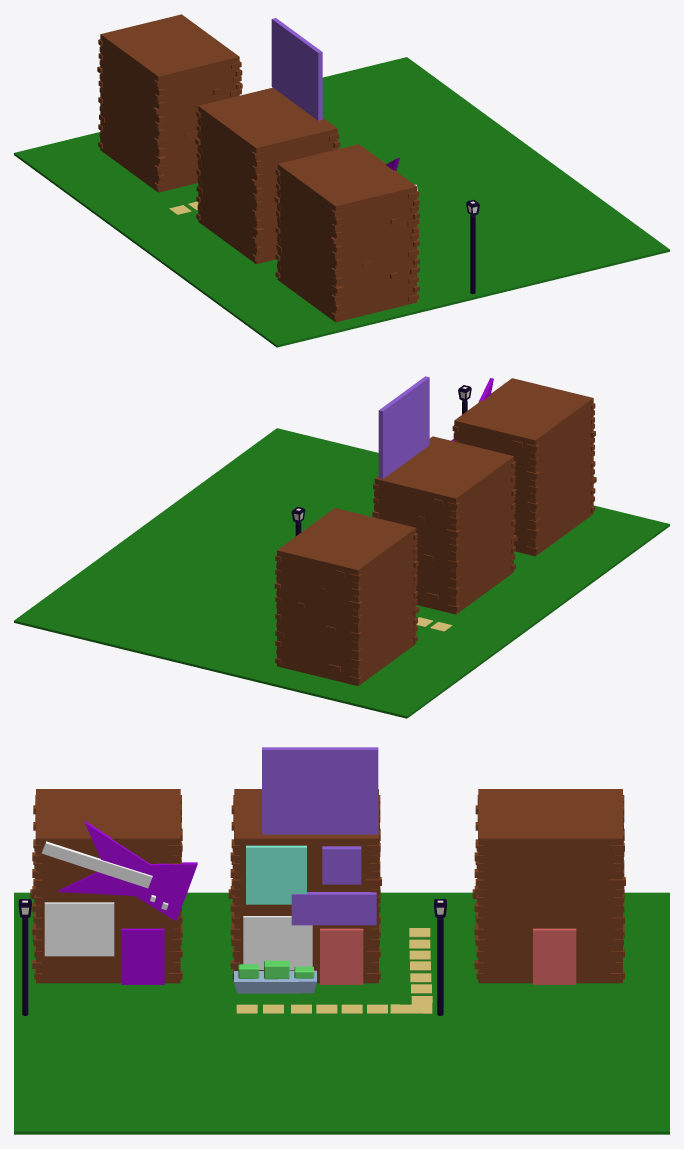
The model's file is House.glb.
3 views of the same model, one above another, from view 1: azimuth 30°, elevation 25°; view 2: azimuth 150°, elevation 25°; view 3: azimuth 270°, elevation 25° (orthographic). The views are drawn at different scales.
Visible parts, largest first — view 1: Cube, Cube.018, Cube.017, Cube.001, Cube.024; view 2: Cube, Cube.017, Cube.001, Cube.018, Cube.024; view 3: Cube, Cube.017, Cube.018, Cube.024, Cube.001, Cube.025, Cube.029, Cube.002, Cube.005, Cube.016, Cube.023, Cube.004 (+7 smaller).
Part boxes in pixels (<box>): Cube: <box>14,57,669,347</box>; Cube.018: <box>274,144,419,322</box>; Cube.017: <box>97,14,242,192</box>; Cube.001: <box>195,87,340,264</box>; Cube.024: <box>271,18,322,120</box>; Cube: <box>14,428,669,718</box>; Cube.017: <box>274,508,419,685</box>; Cube.001: <box>372,436,516,614</box>; Cube.018: <box>452,378,596,556</box>; Cube.024: <box>378,376,429,478</box>; Cube: <box>14,892,669,1134</box>; Cube.017: <box>472,789,625,983</box>; Cube.018: <box>30,789,182,983</box>; Cube.024: <box>262,747,378,834</box>; Cube.001: <box>228,789,381,983</box>; Cube.025: <box>58,821,197,921</box>; Cube.029: <box>44,902,114,956</box>; Cube.002: <box>246,845,306,904</box>; Cube.005: <box>243,916,312,969</box>; Cube.016: <box>291,892,376,925</box>; Cube.023: <box>121,928,164,984</box>; Cube.004: <box>320,928,363,984</box>.
Size of what is drawn, in the model's own units: 51.77 by 23.59 by 60.
